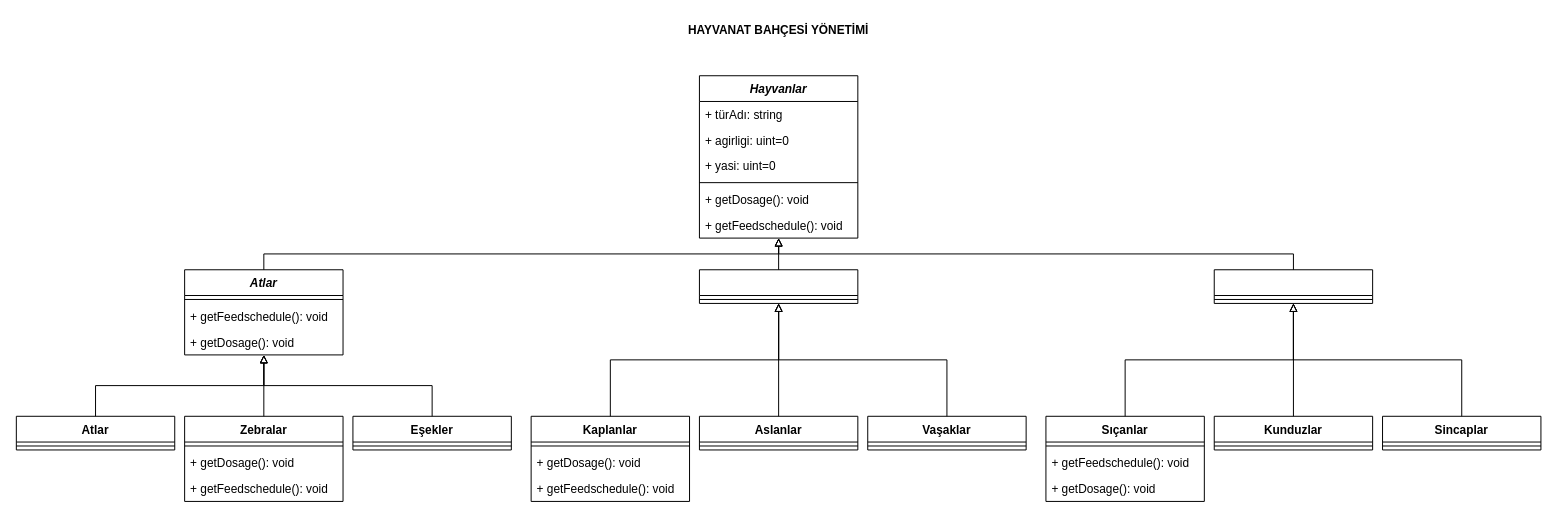
Image size: 1557x518. Some labels were removed from this diagram. Each missing label, with the centre of its shape:
"Kedigiller" belongs at point 778,286.
"Kemirgenler" belongs at point 1293,286.
